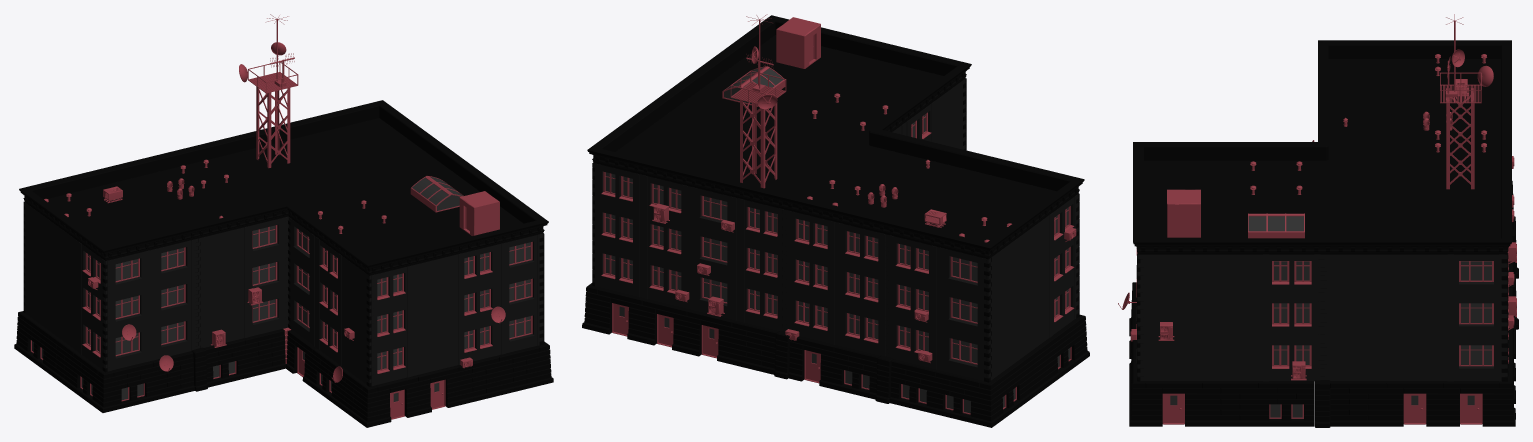
Rendered from Building1_3.fbx.
3 renders of one model, left to right at view 1: azimuth 30°, elevation 25°; view 2: azimuth 150°, elevation 25°; view 3: azimuth 270°, elevation 25°, orthographic. The views are drawn at different scales.
Parts seen in each view (by area): view 1: Building3; view 2: Building3; view 3: Building3.
Part boxes in pixels (left/top/right/bottom): Building3: left=14, top=14, right=553, bottom=427; Building3: left=582, top=14, right=1089, bottom=427; Building3: left=1118, top=14, right=1518, bottom=427.
Bounding box in the file's own units: 3164 × 2368 × 2591.
